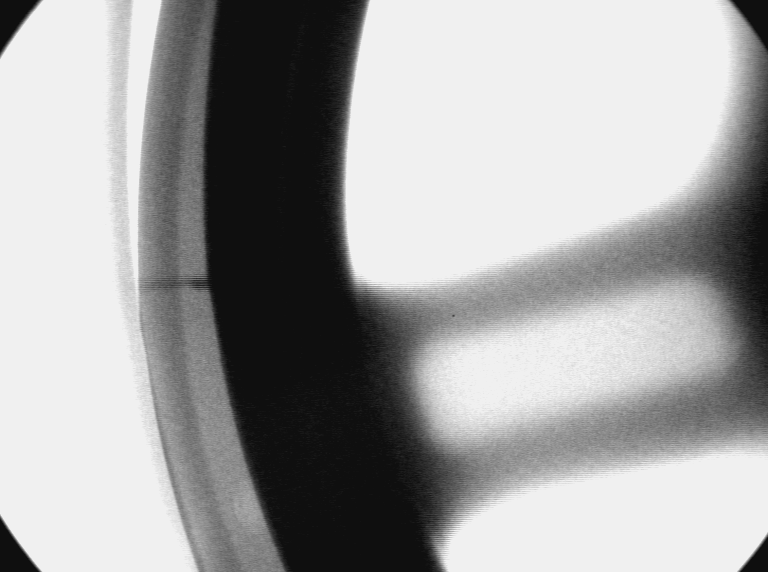defect: (231, 483, 274, 539)
